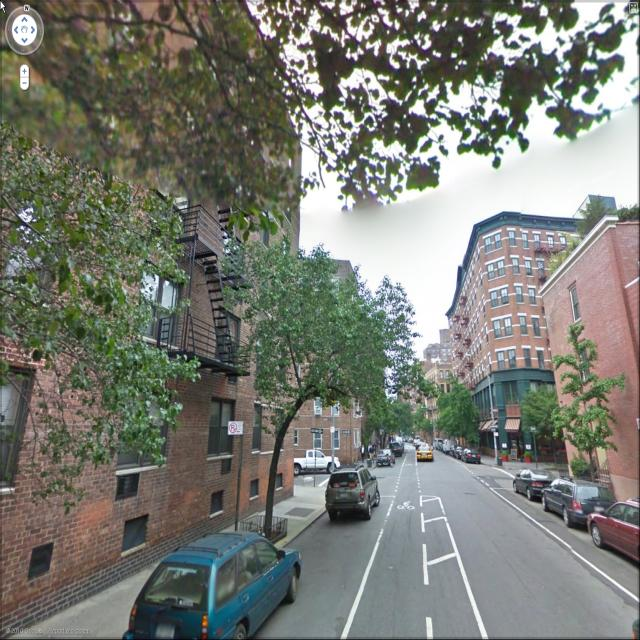b_1: (452, 200, 547, 414)
b_2: (0, 1, 173, 626), (154, 1, 310, 518), (540, 210, 640, 509), (289, 254, 377, 467)
